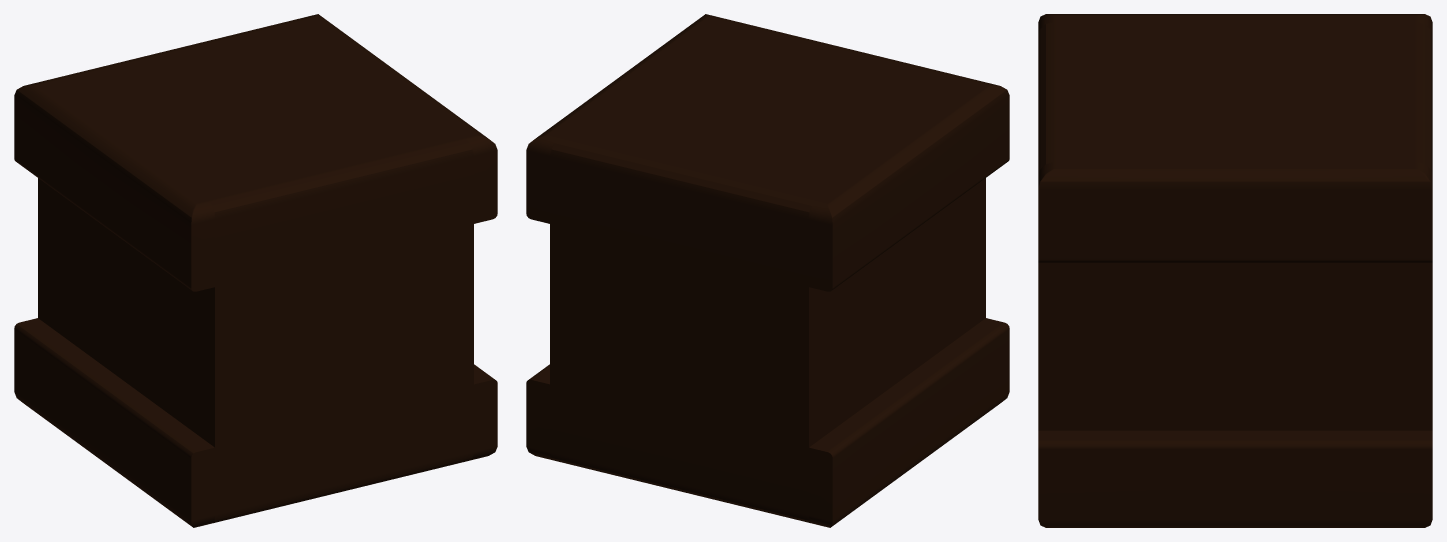
File: DisabledBlock.fbx
3 views of the same model, side by side, from view 1: azimuth 30°, elevation 25°; view 2: azimuth 150°, elevation 25°; view 3: azimuth 270°, elevation 25° (orthographic). The views are drawn at different scales.
Visible parts, largest first — view 1: DisabledBlock; view 2: DisabledBlock; view 3: DisabledBlock.
Part boxes in pixels (box(x1,y1,x2,y2)): DisabledBlock: box(14, 14, 497, 527); DisabledBlock: box(526, 14, 1009, 527); DisabledBlock: box(1038, 14, 1432, 527).
Size of the model in its own units: 5 by 5 by 5.
